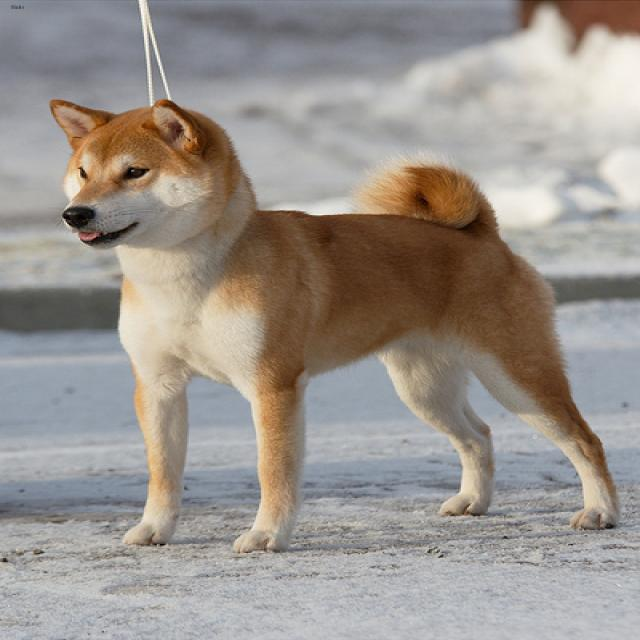dog-shiba_inu: (37, 88, 629, 562)
